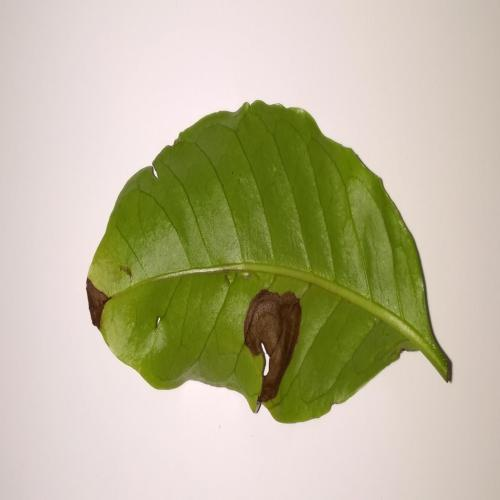leaf: (72, 100, 462, 425)
phoma: (234, 281, 313, 415), (84, 272, 122, 334)
